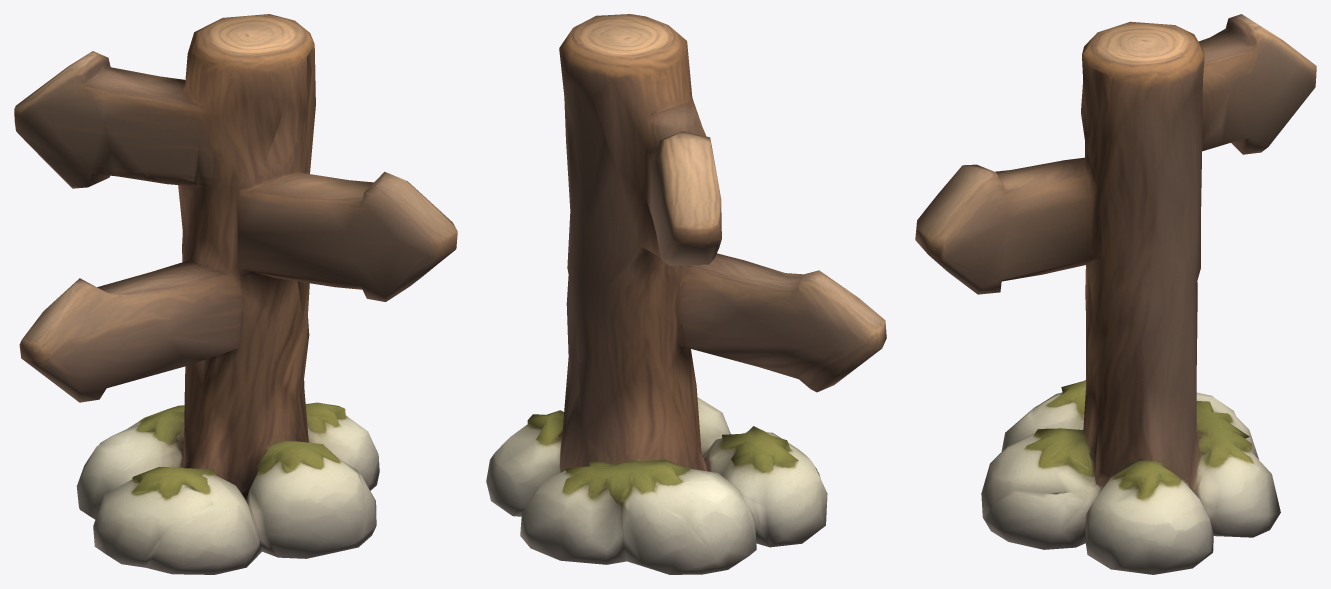
The model's file is signpost.glb.
3 views of the same model, side by side, from view 1: azimuth 30°, elevation 25°; view 2: azimuth 150°, elevation 25°; view 3: azimuth 270°, elevation 25° (orthographic).
Parts seen in each view (by area): view 1: geometry_0.001; view 2: geometry_0.001; view 3: geometry_0.001.
Boxes of the visible parts, left/top/right/bottom form: geometry_0.001: left=14, top=14, right=457, bottom=574; geometry_0.001: left=486, top=14, right=886, bottom=574; geometry_0.001: left=915, top=14, right=1316, bottom=574.
Size of the model in its own units: 1.63 by 1.99 by 1.53.
Materials: 1 (1 with a texture image).
